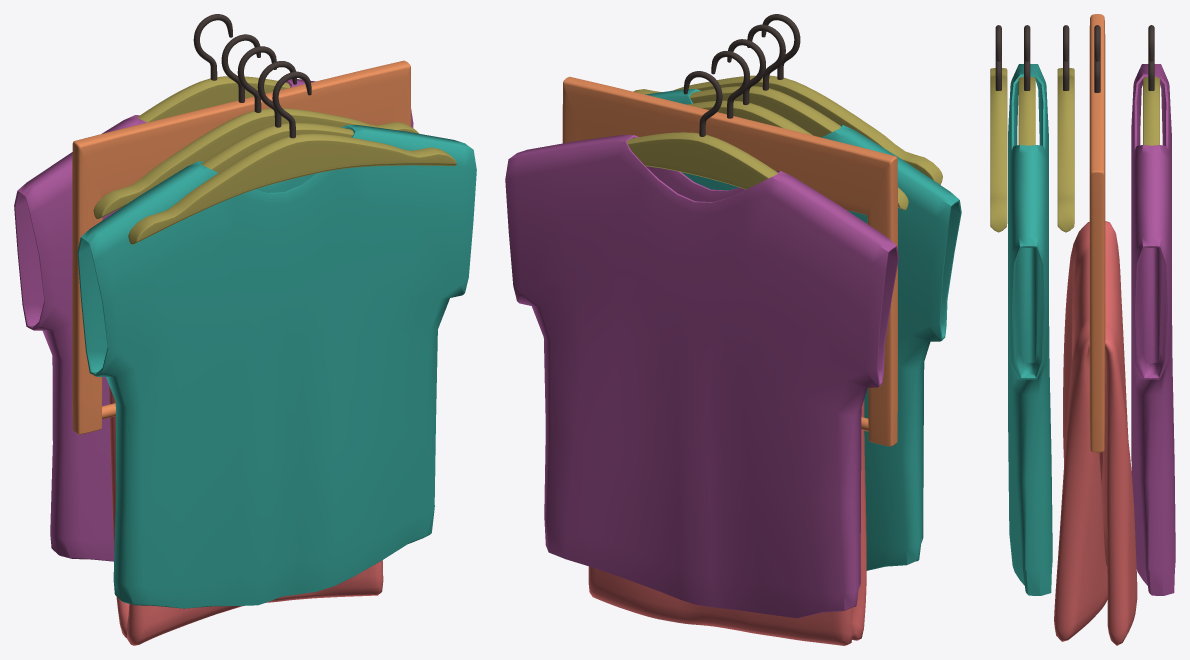
Rendered from PROP_RoupasPend_2.fbx.
3 views of the same model, side by side, from view 1: azimuth 30°, elevation 25°; view 2: azimuth 150°, elevation 25°; view 3: azimuth 270°, elevation 25° (orthographic). The views are drawn at different scales.
Visible parts, largest first — view 1: Camiseta, Corpo (×2), Camiseta2, Corpo1, Corpo3, Tecido3, Corpo2, Arame (×2), Arame1, Arame3, Arame2; view 2: Camiseta2, Corpo (×2), Camiseta, Tecido3, Corpo1, Corpo2, Arame (×2), Corpo3, Arame2, Arame3, Arame1; view 3: Tecido3, Camiseta, Camiseta2, Corpo (×2), Corpo3, Corpo1, Corpo2, Arame (×2), Arame1, Arame2, Arame3.
Boxes of the visible parts, left/top/right/bottom form: Camiseta: left=77, top=125, right=476, bottom=608; Corpo (×2): left=72, top=60, right=411, bottom=434; Camiseta2: left=14, top=79, right=413, bottom=561; Corpo1: left=128, top=133, right=456, bottom=244; Corpo3: left=93, top=108, right=419, bottom=218; Tecido3: left=109, top=385, right=383, bottom=645; Corpo2: left=201, top=123, right=353, bottom=172; Arame (×2): left=193, top=14, right=260, bottom=102; Arame1: left=272, top=71, right=311, bottom=138; Arame3: left=237, top=46, right=276, bottom=112; Arame2: left=257, top=61, right=296, bottom=127; Camiseta2: left=505, top=135, right=898, bottom=618; Corpo (×2): left=562, top=76, right=897, bottom=446; Camiseta: left=645, top=89, right=961, bottom=570; Tecido3: left=588, top=399, right=866, bottom=645; Corpo1: left=633, top=75, right=942, bottom=184; Corpo2: left=689, top=86, right=840, bottom=137; Arame (×2): left=683, top=51, right=749, bottom=136; Corpo3: left=687, top=100, right=908, bottom=210; Arame2: left=747, top=24, right=785, bottom=90; Arame3: left=727, top=39, right=765, bottom=105; Arame1: left=761, top=14, right=800, bottom=79; Tecido3: left=1054, top=221, right=1137, bottom=645; Camiseta: left=1008, top=64, right=1052, bottom=595; Camiseta2: left=1131, top=64, right=1175, bottom=595; Corpo (×2): left=1089, top=14, right=1159, bottom=452; Corpo3: left=1057, top=68, right=1074, bottom=232; Corpo1: left=990, top=68, right=1007, bottom=232; Corpo2: left=1018, top=76, right=1035, bottom=145; Arame (×2): left=1094, top=25, right=1154, bottom=92; Arame1: left=995, top=25, right=1001, bottom=90; Arame2: left=1024, top=25, right=1030, bottom=90; Arame3: left=1063, top=25, right=1069, bottom=90.
Bounding box in the file's own units: 5.51 × 7.91 × 2.38.
